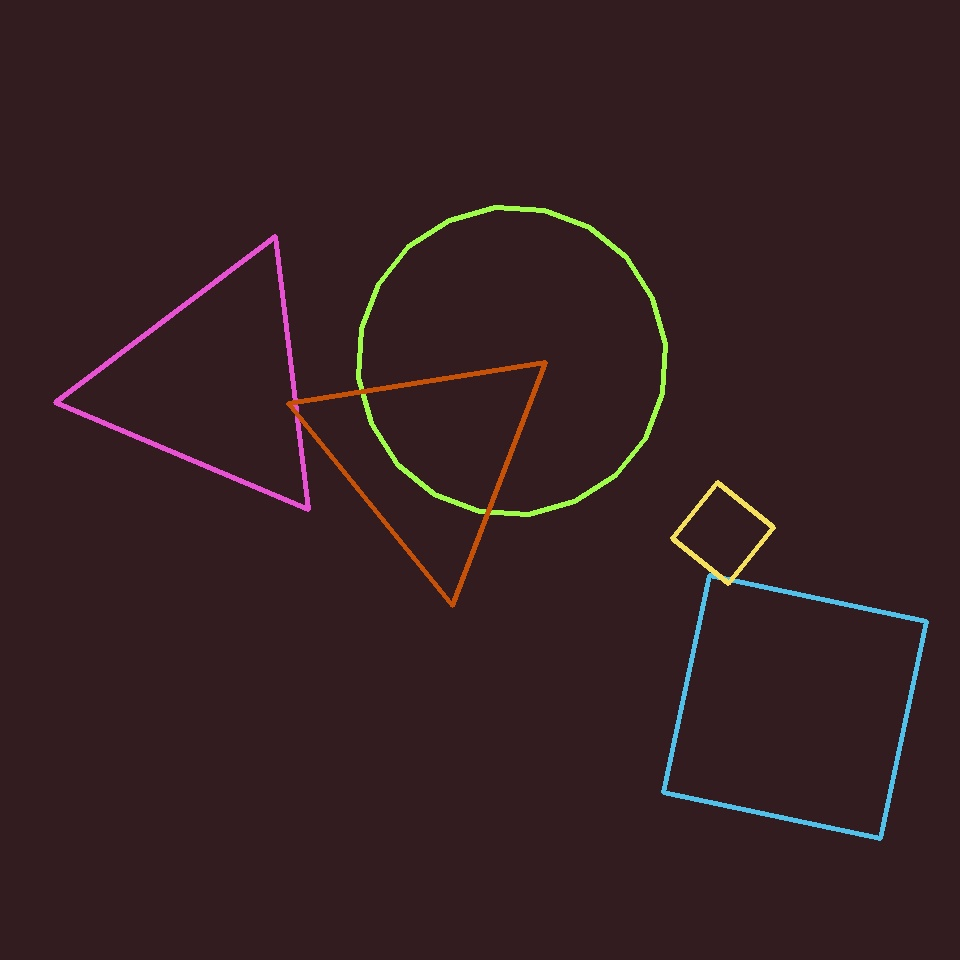circle: (86, 247, 340, 520), (300, 336, 558, 578)
square: (664, 576, 926, 838), (672, 482, 774, 584)
triangle: (358, 208, 666, 514)
